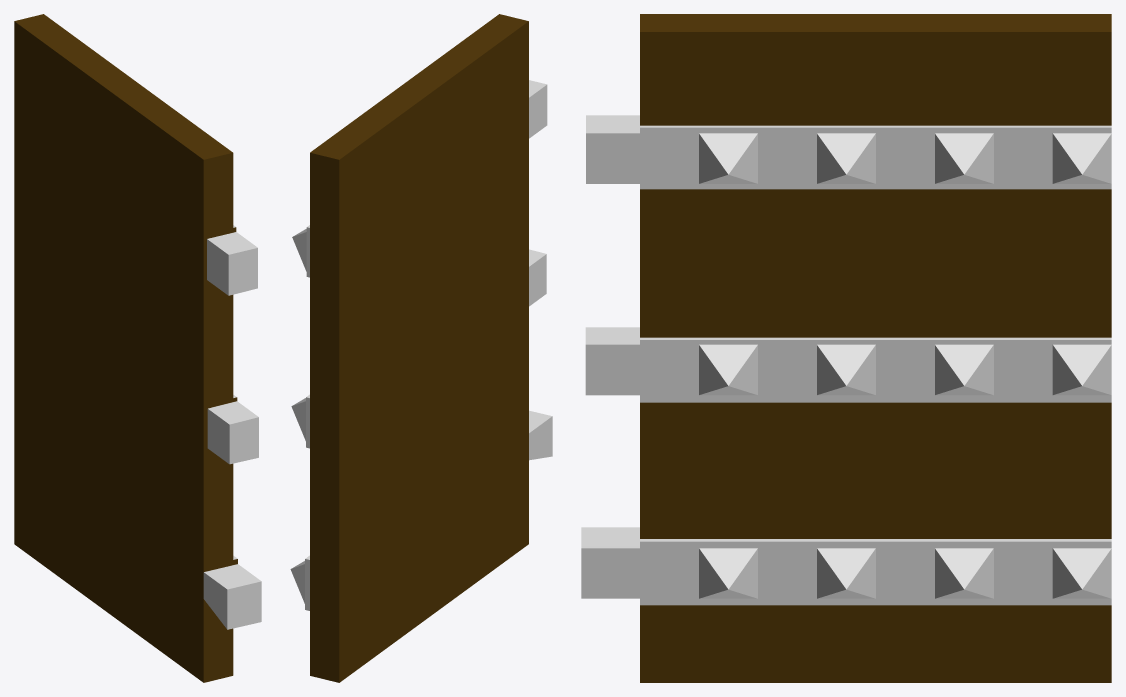
Rendered from porte_blinde.fbx.
3 renders of one model, left to right at view 1: azimuth 30°, elevation 25°; view 2: azimuth 150°, elevation 25°; view 3: azimuth 270°, elevation 25°, orthographic. The views are drawn at different scales.
Visible parts, largest first — view 1: Cube.001; view 2: Cube.001; view 3: Cube.001.
Part boxes in pixels (left/top/right/bottom): Cube.001: left=14, top=14, right=261, bottom=682; Cube.001: left=290, top=14, right=552, bottom=682; Cube.001: left=581, top=14, right=1111, bottom=682.
Bounding box in the file's own units: 50.34 × 414 × 306.
